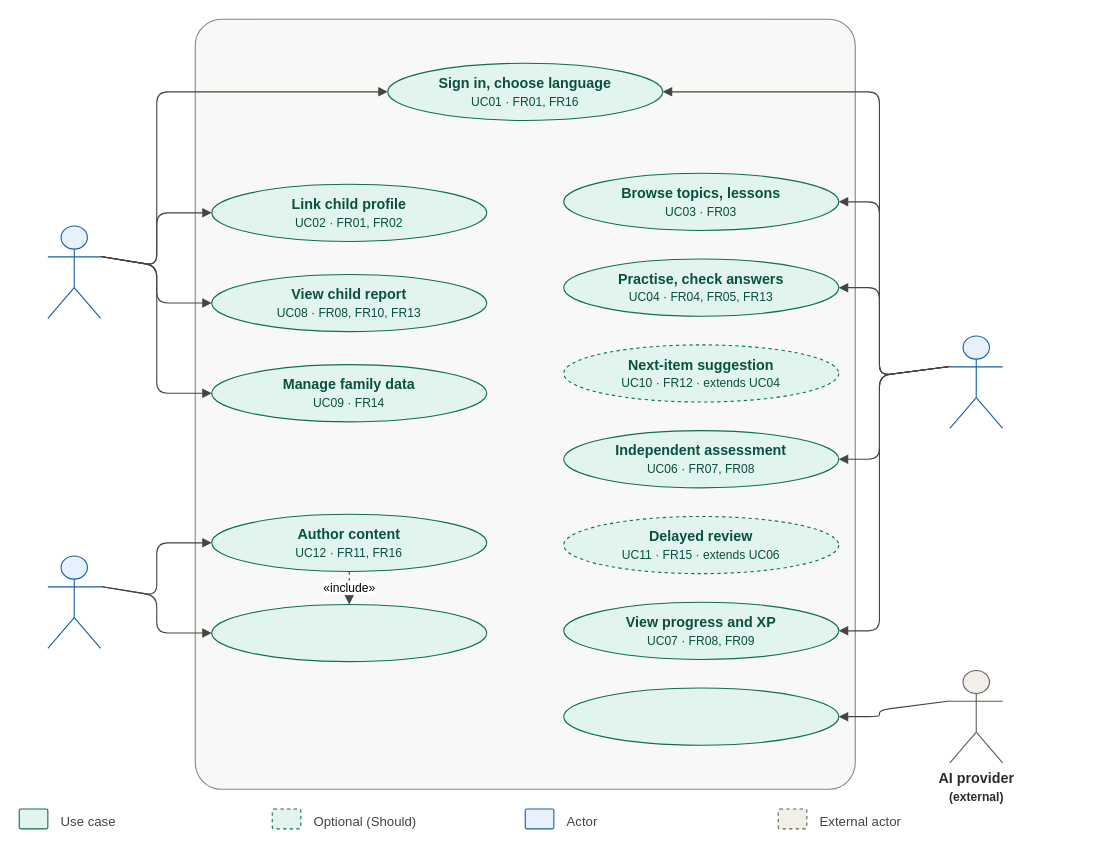
This 1101x849 diagram has some shape labels left out. The shapes that lost their labels are listed below. From the top down, each one's box as (x1, y1, x2, y2) in pixels, then its label:
(47, 225, 101, 318): Parent
(949, 335, 1003, 428): Learner
(194, 18, 855, 789): MathVerity
(47, 555, 101, 648): Content author (project developer)
(211, 603, 487, 662): Review and publish UC13 · FR11
(563, 687, 839, 745): Get stepwise hint UC05 · FR06 · extends UC04
